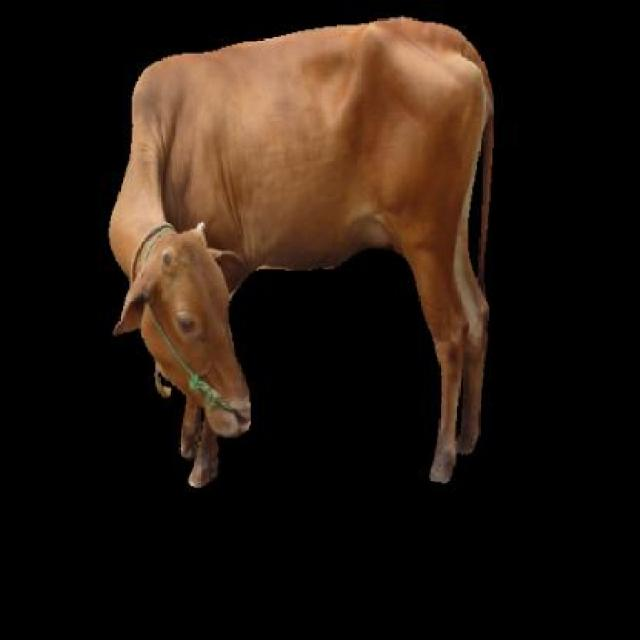Cow: (106, 15, 512, 491)
